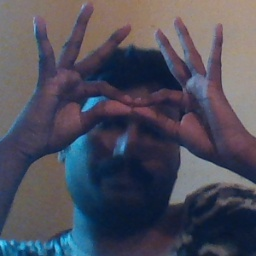B: (57, 46, 202, 154)
